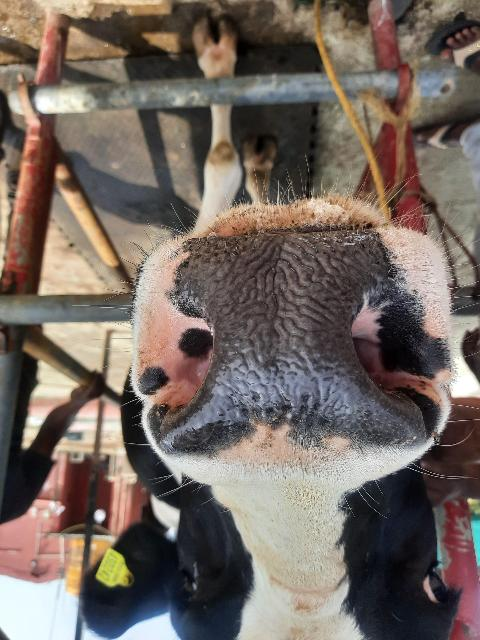Muzzle: (184, 234, 394, 432)
